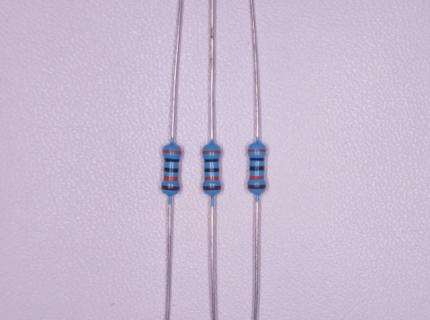Black band: (249, 165, 265, 171), (164, 158, 180, 163), (163, 167, 179, 172), (204, 168, 220, 173), (249, 157, 264, 162), (204, 159, 219, 163)
Brown band: (161, 186, 180, 191), (202, 186, 221, 191), (248, 184, 267, 189)
Orange band: (162, 149, 182, 155), (163, 175, 179, 181), (247, 148, 266, 153), (202, 150, 221, 154), (205, 176, 220, 181), (249, 176, 265, 180)
